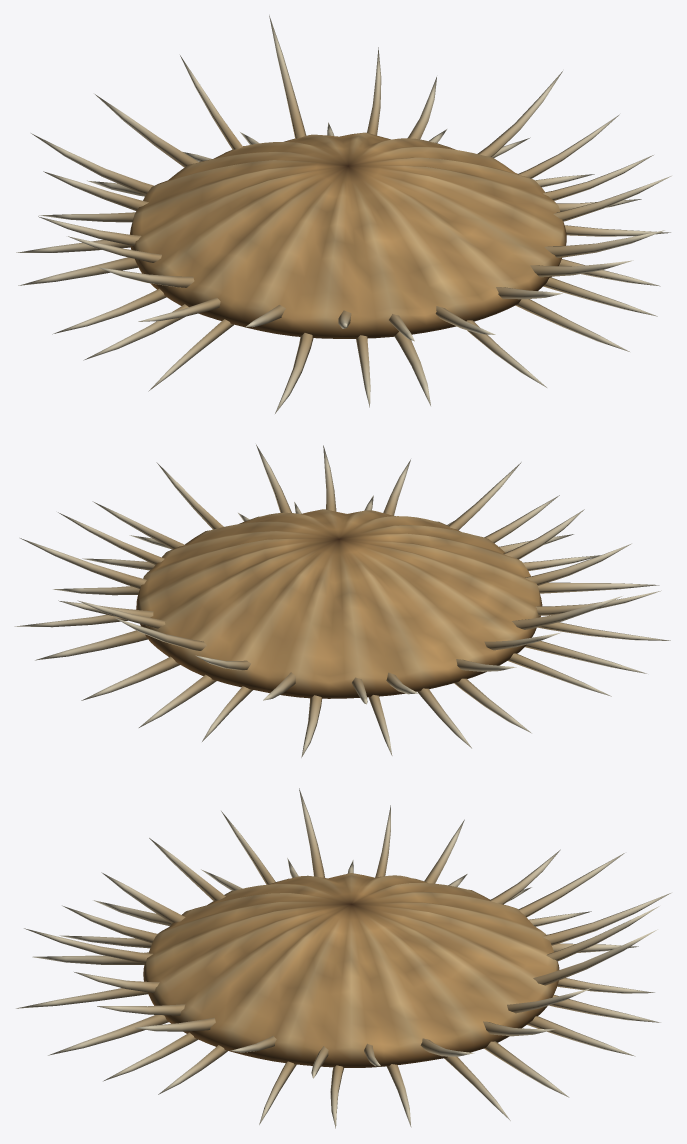
Rendered from ChoiaHindei.fbx.
3 views of the same model, one above another, from view 1: azimuth 30°, elevation 25°; view 2: azimuth 150°, elevation 25°; view 3: azimuth 270°, elevation 25° (orthographic). The views are drawn at different scales.
Parts seen in each view (by area): view 1: ChoiaHindei; view 2: ChoiaHindei; view 3: ChoiaHindei.
Boxes of the visible parts, left/top/right/bottom form: ChoiaHindei: left=16, top=15, right=671, bottom=413; ChoiaHindei: left=14, top=444, right=670, bottom=757; ChoiaHindei: left=16, top=788, right=670, bottom=1128.
Size of the model in its own units: 2.04 by 0.3758 by 2.08.
